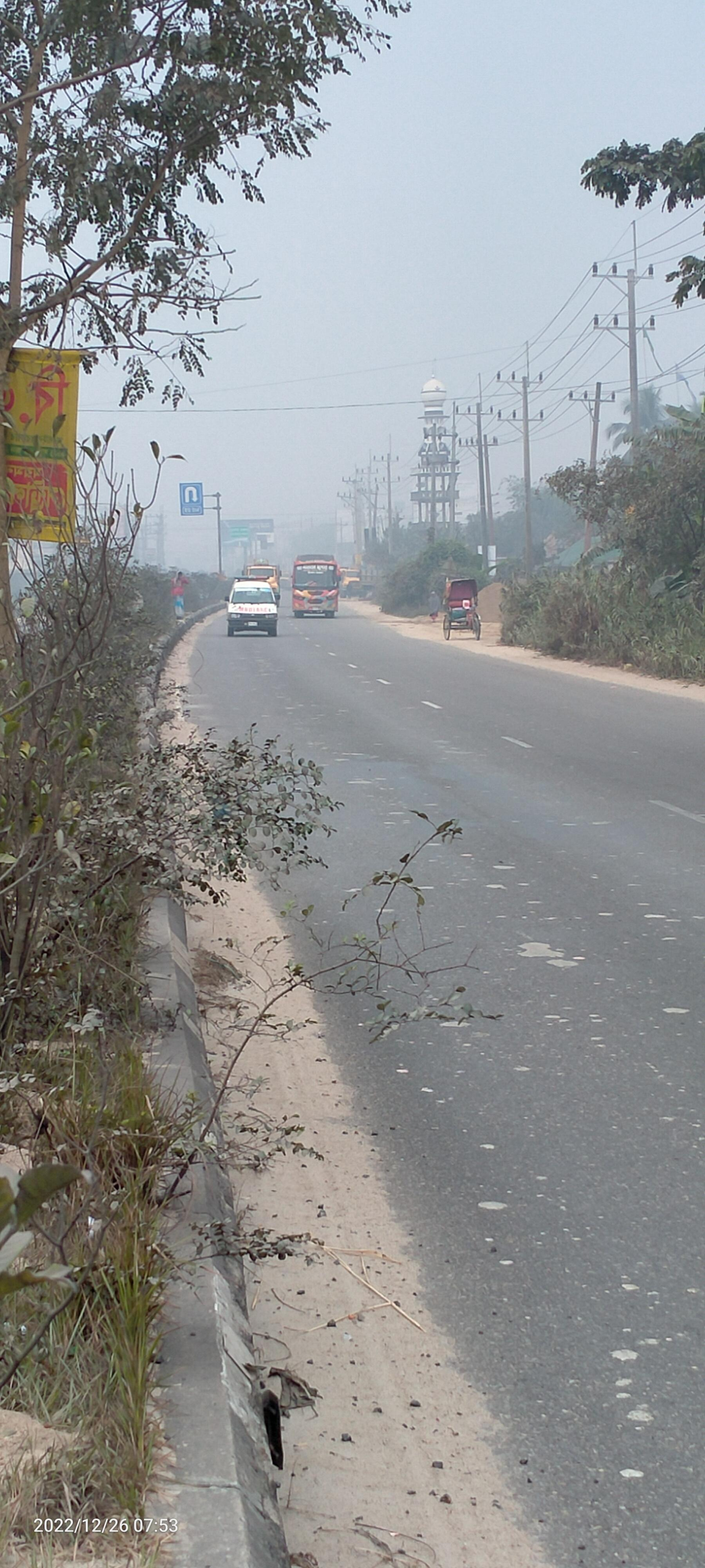Bus: (288, 551, 344, 620)
Car: (224, 576, 288, 641), (441, 569, 487, 644)
Truck: (242, 559, 286, 604)
